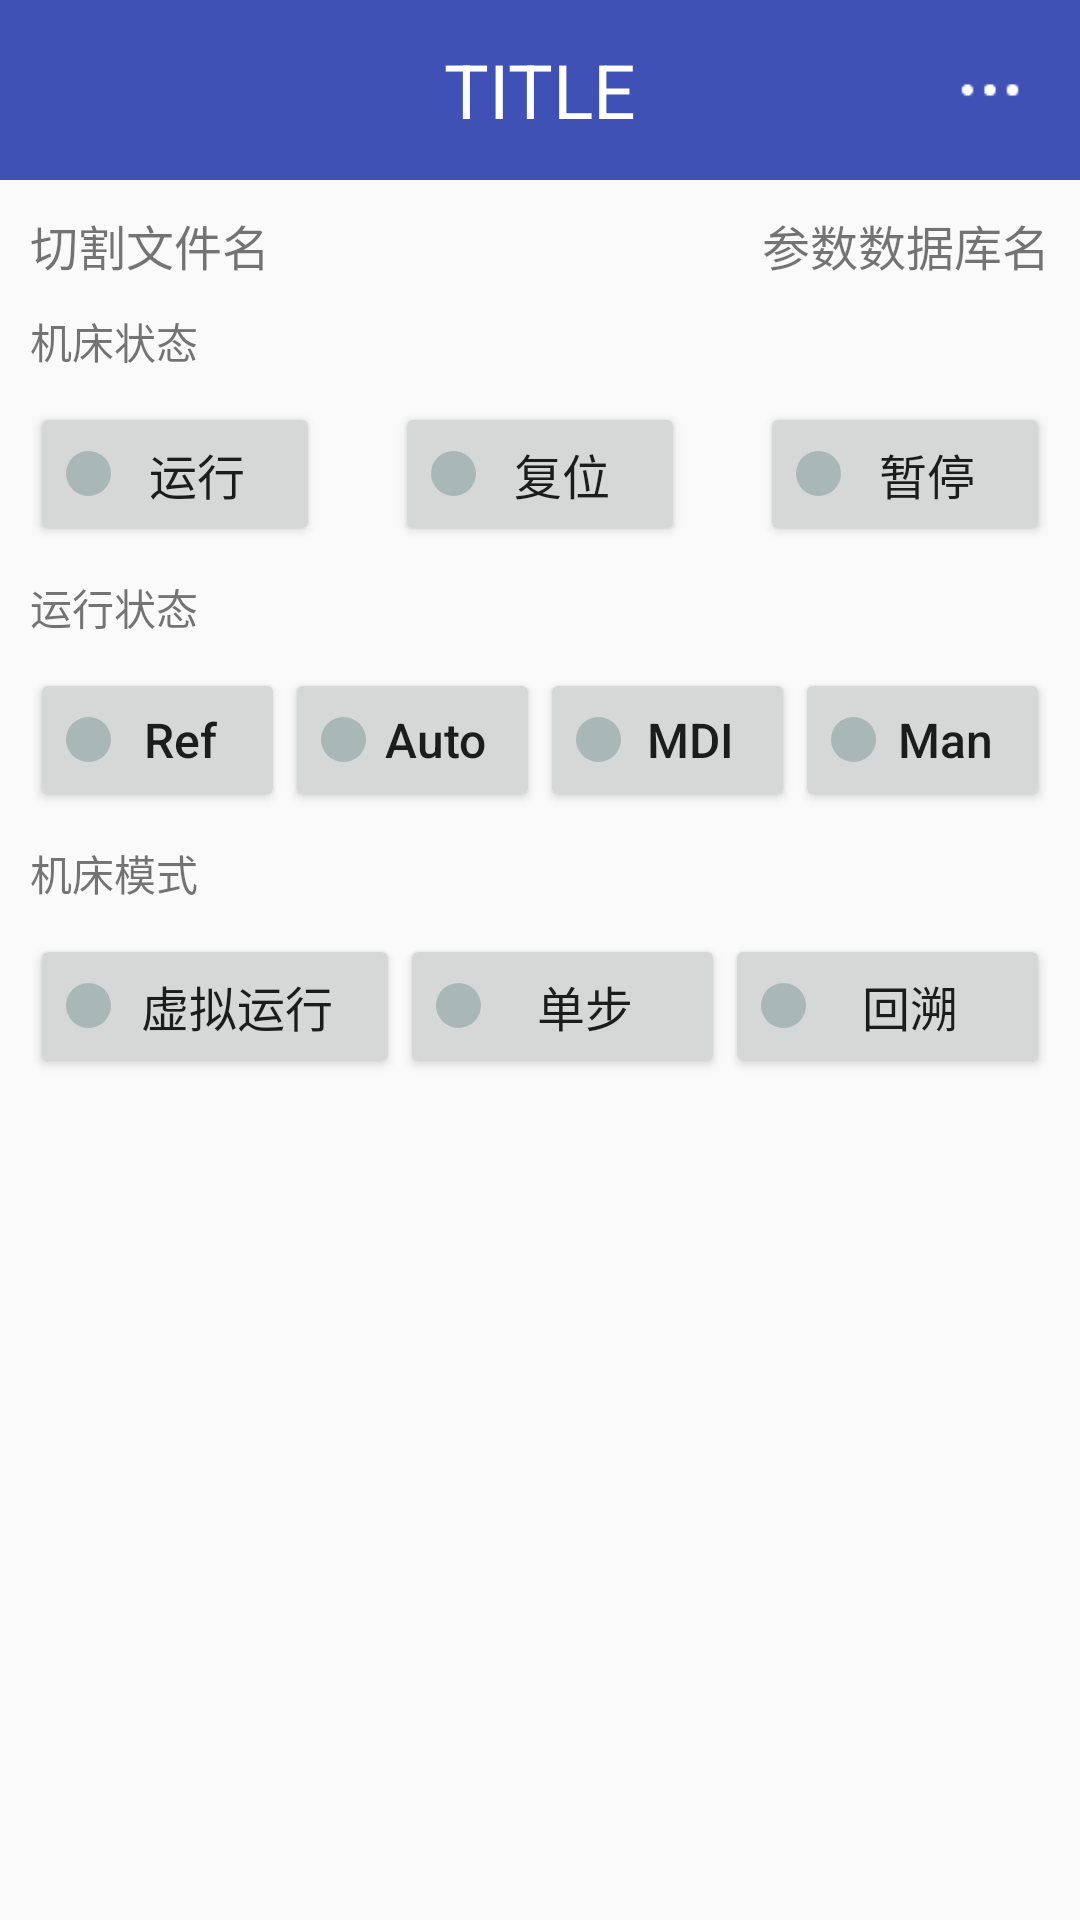

Named icons in this screenshot (1080px x 1920px) and their bounding boxes, detection(x1, y1, x2, y2):
more: detection(961, 84, 1019, 96)
